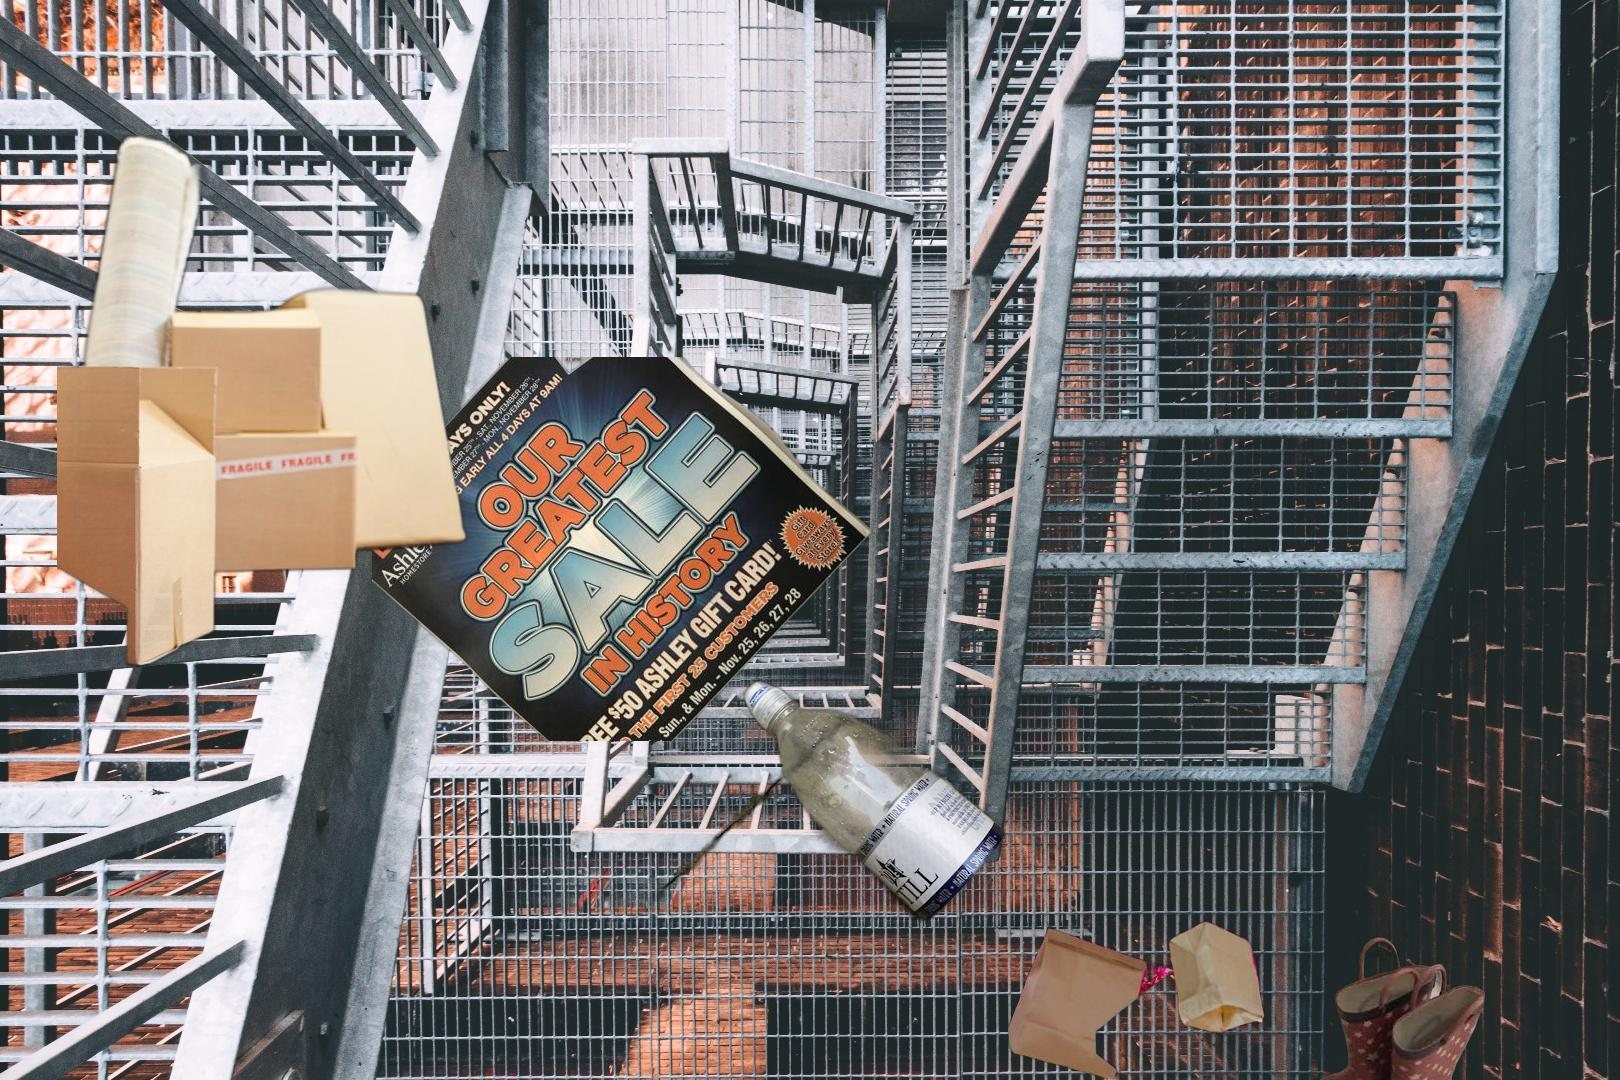paper: (372, 357, 876, 741)
paper-bag: (1005, 918, 1268, 1080)
plastic-bottles: (538, 674, 1009, 1080)
shoes: (1289, 929, 1485, 1080)
trashbox-cardboard: (57, 135, 472, 720)
